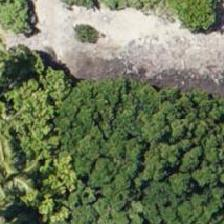coconut_tree: (0, 18, 47, 108)
